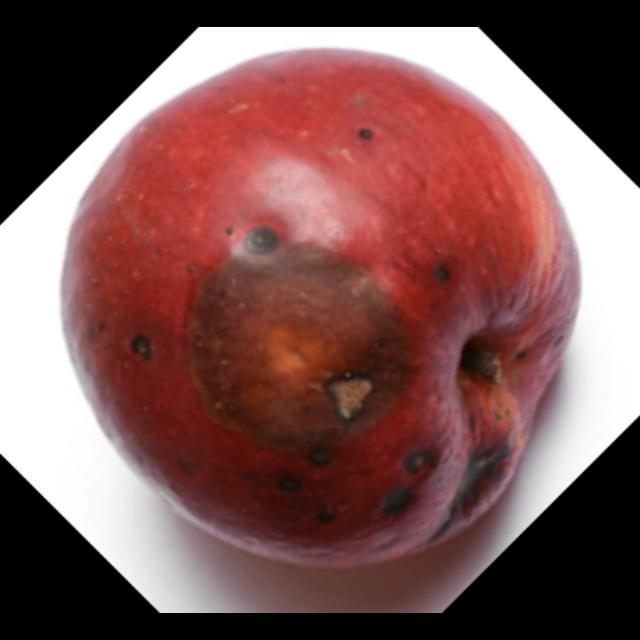Apel Tidak Segar: (61, 47, 580, 586)
